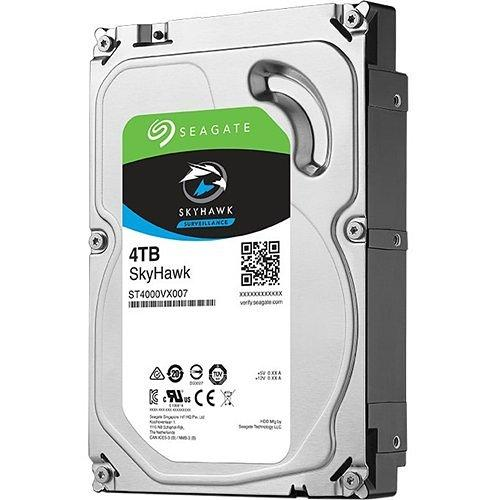internal HDD: (87, 1, 408, 500)
